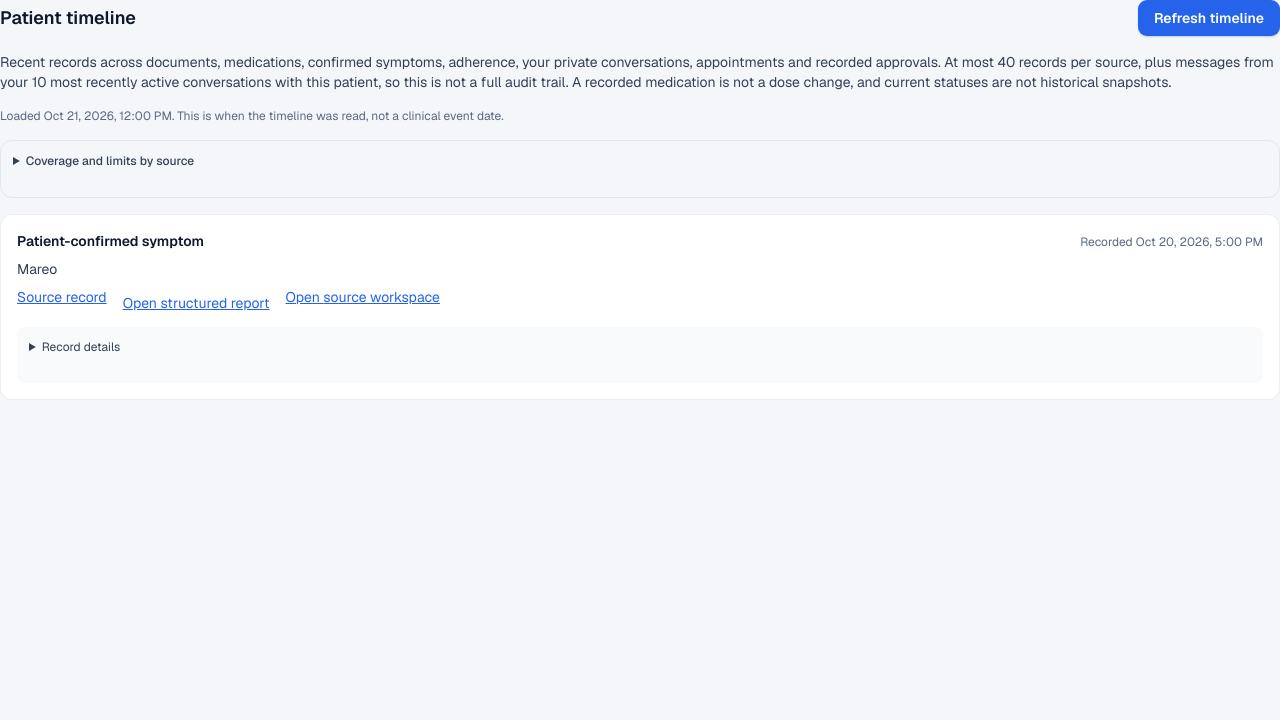
timeline entry point › opens the structured report from a symptom timeline event
The image size is (1280, 720).
Click the button "Open structured report" at (196, 303), box 123,287 -> 269,319
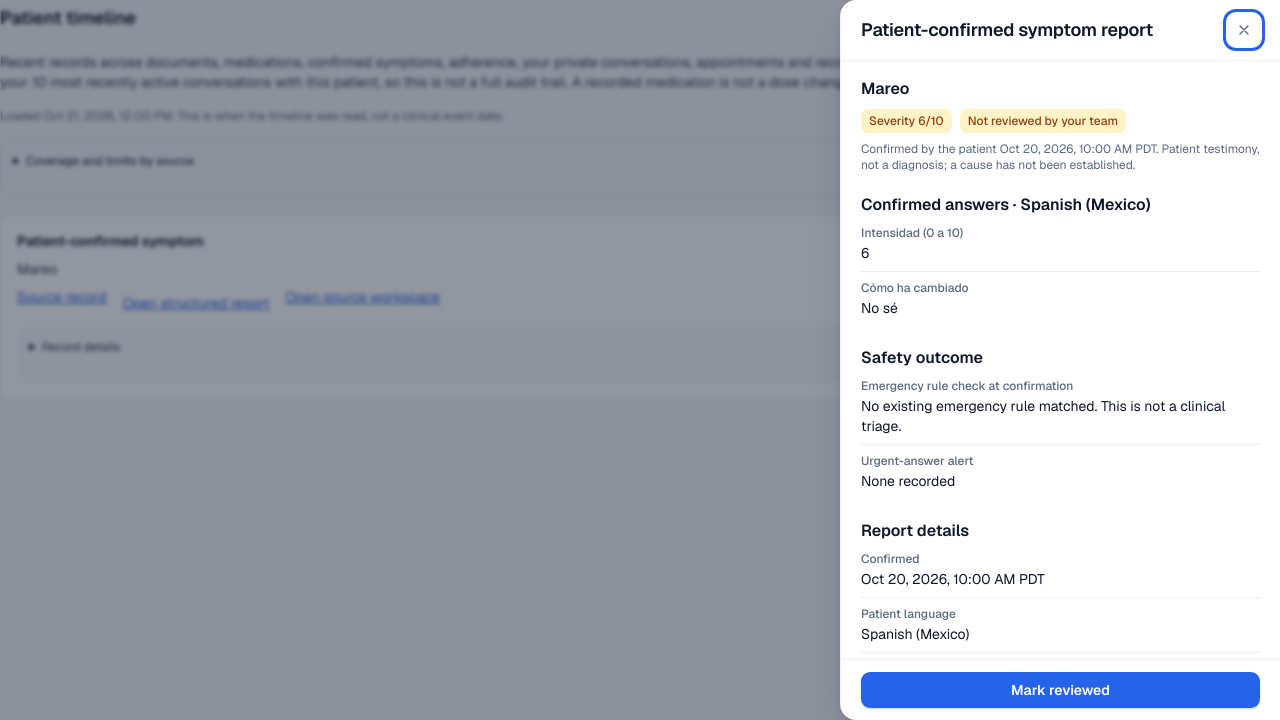
Result: the text "Intensidad (0 a 10)" is shown at 861,225 -> 963,241
